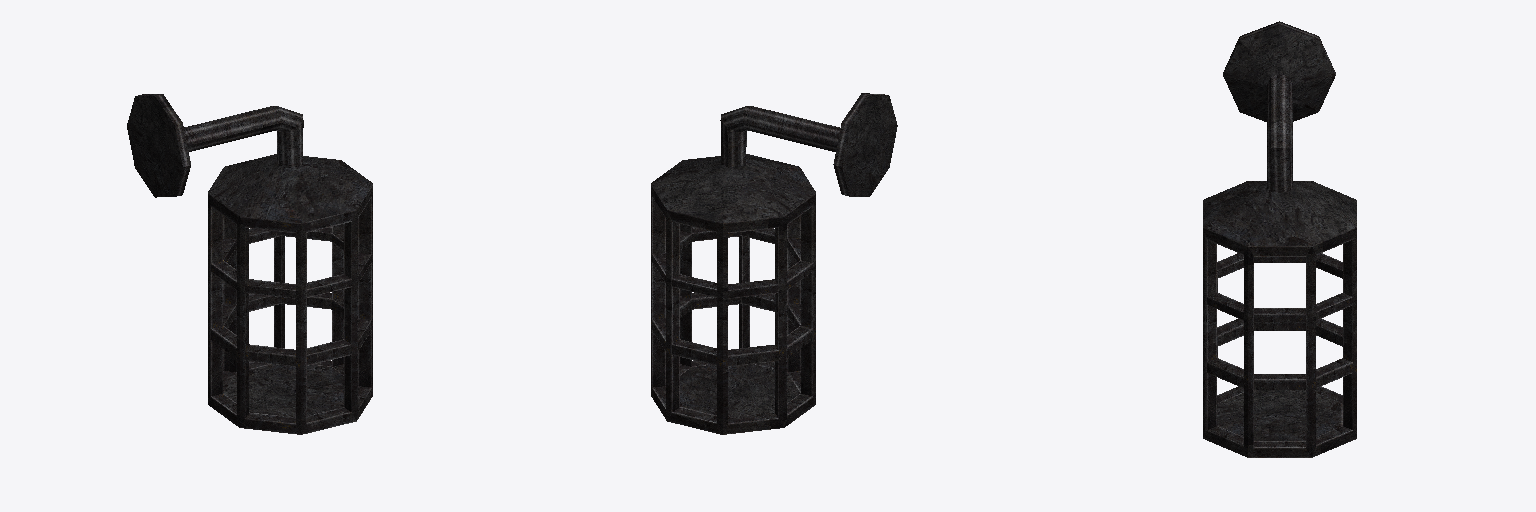
3 renders of one model, left to right at view 1: azimuth 30°, elevation 25°; view 2: azimuth 150°, elevation 25°; view 3: azimuth 270°, elevation 25°, orthographic.
Parts seen in each view (by area): view 1: Default_Layer; view 2: Default_Layer; view 3: Default_Layer.
Boxes of the visible parts, box(x1,y1,x2,y2) form: Default_Layer: box(127, 94, 372, 434); Default_Layer: box(651, 93, 897, 434); Default_Layer: box(1203, 21, 1356, 457).
Size of the model in its own units: 0.7003 by 1.22 by 0.4621.
Materials: 1 (1 with a texture image).